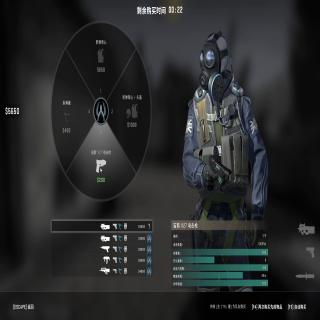CT-Body: (182, 27, 268, 210)
CT-Head: (198, 27, 230, 89)
